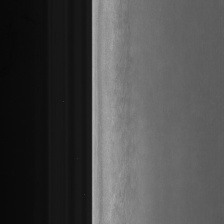silk_spot: (110, 39, 143, 214)
